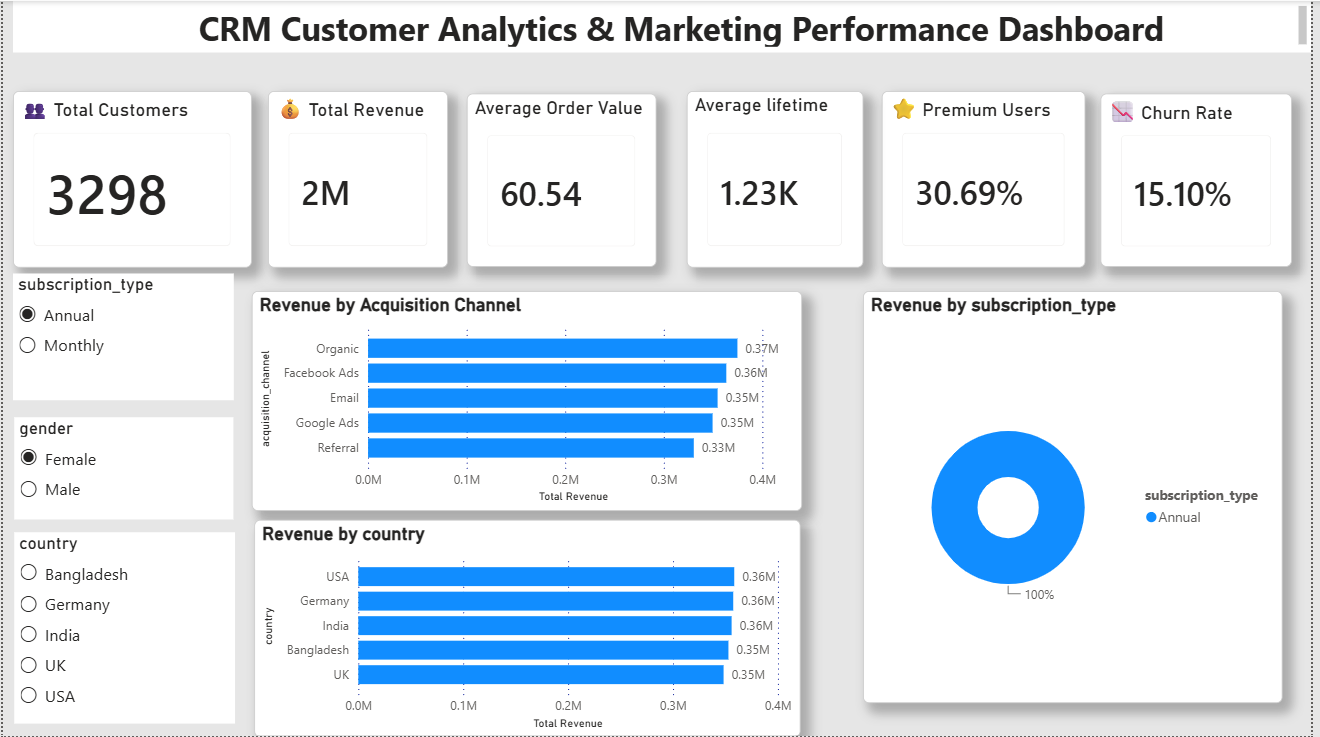

The dashboard page shown, as its layout file describes it:
{"tool":"powerbi","page":{"name":"Executive summary","canvas":[1280,720],"ordinal":0},"visuals":[{"type":"cardVisual","title":"👥 Total Customers","fields":{"Data":["CRMdataset.Total Customers"]},"box":[9.8,88,233.6,172.4],"z":0},{"type":"textbox","box":[9.8,0,1270.5,50.1],"z":1000},{"type":"cardVisual","title":"⭐ Premium Users","fields":{"Data":["CRMdataset.Premium user %"]},"box":[859.7,88,199.3,172.4],"z":2000},{"type":"cardVisual","title":"Average Order Value","fields":{"Data":["CRMdataset.Average order value"]},"box":[453.7,90.5,185.9,170],"z":3000},{"type":"cardVisual","title":"📉 Churn Rate","fields":{"Data":["CRMdataset.churn rate"]},"box":[1073.6,90.5,187.1,170],"z":4000},{"type":"cardVisual","title":"💰 Total Revenue","fields":{"Data":["CRMdataset.Total Revenue"]},"box":[259.2,88,176.1,172.4],"z":5000},{"type":"cardVisual","title":"Average lifetime","fields":{"Data":["CRMdataset.Average lifetime value"]},"box":[668.9,88,172.4,172.4],"z":6000},{"type":"clusteredBarChart","title":"Revenue by Acquisition Channel","fields":{"Category":["CRMdataset.acquisition_channel"],"Y":["CRMdataset.Total Revenue"]},"box":[243.3,283.7,538,215.2],"z":7000},{"type":"donutChart","title":"Revenue by subscription_type","fields":{"Category":["CRMdataset.subscription_type"],"Y":["CRMdataset.Total Revenue"]},"box":[841.4,284.3,410,402.9],"z":8000},{"type":"clusteredBarChart","title":" Revenue by country","fields":{"Category":["CRMdataset.country"],"Y":["CRMdataset.Total Revenue"]},"box":[245.7,507.1,534.3,212.9],"z":9000},{"type":"listSlicer","fields":{"Values":["CRMdataset.gender"]},"box":[10.9,407.2,214.5,99.7],"z":10000},{"type":"listSlicer","fields":{"Values":["CRMdataset.country"]},"box":[11.4,520,215.7,187.1],"z":11000},{"type":"listSlicer","fields":{"Values":["CRMdataset.subscription_type"]},"box":[10,267.1,215.7,124.3],"z":12000}]}

Visuals, with their boxes in screenshot pixels (x1, y1, x2, y2), scaled from the page's 1280x720 canvas onto the 1320x737 screenshot:
"👥 Total Customers" cardVisual: [left=10, top=90, right=251, bottom=267]
textbox: [left=10, top=0, right=1319, bottom=51]
"⭐ Premium Users" cardVisual: [left=887, top=90, right=1092, bottom=267]
"Average Order Value" cardVisual: [left=468, top=93, right=660, bottom=267]
"📉 Churn Rate" cardVisual: [left=1107, top=93, right=1300, bottom=267]
"💰 Total Revenue" cardVisual: [left=267, top=90, right=449, bottom=267]
"Average lifetime" cardVisual: [left=690, top=90, right=868, bottom=267]
"Revenue by Acquisition Channel" clusteredBarChart: [left=251, top=290, right=806, bottom=511]
"Revenue by subscription_type" donutChart: [left=868, top=291, right=1291, bottom=703]
" Revenue by country" clusteredBarChart: [left=253, top=519, right=804, bottom=736]
listSlicer - CRMdataset.gender: [left=11, top=417, right=232, bottom=519]
listSlicer - CRMdataset.country: [left=12, top=532, right=234, bottom=724]
listSlicer - CRMdataset.subscription_type: [left=10, top=273, right=233, bottom=401]
